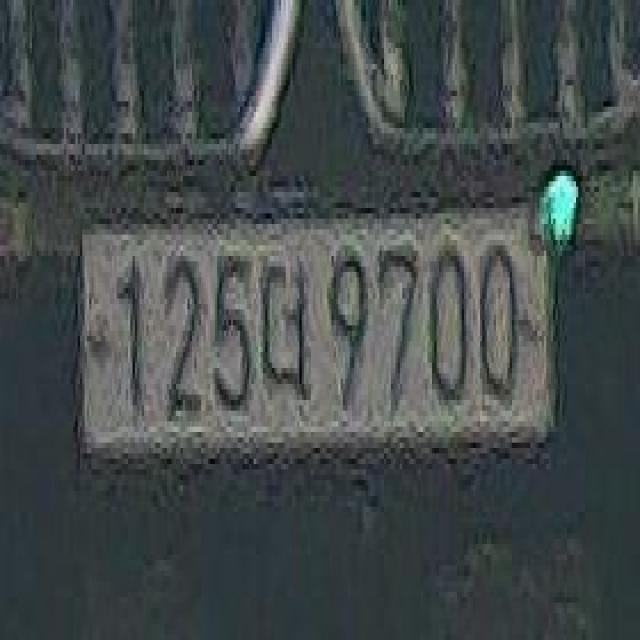illegal_plate: (75, 194, 558, 490)
